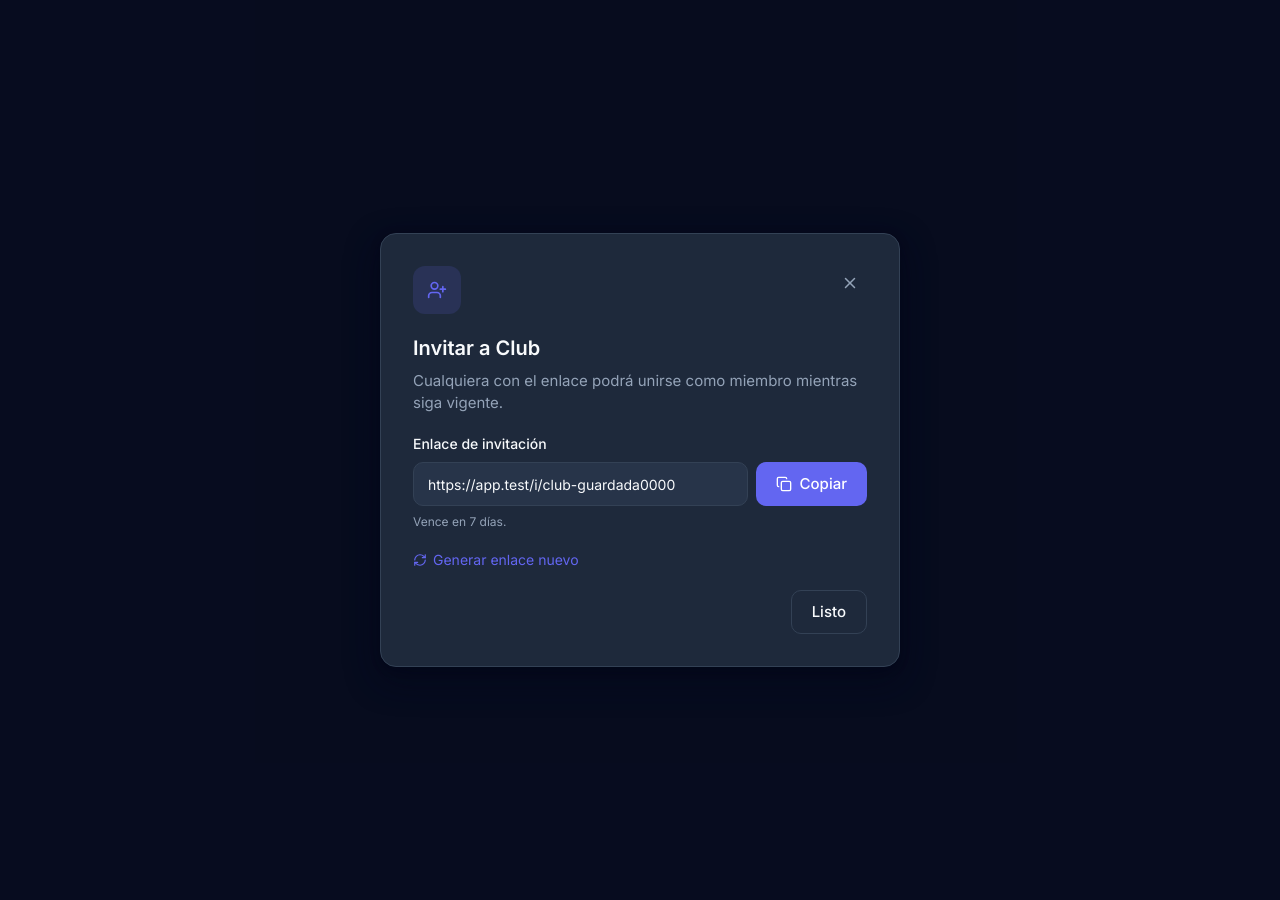
Test: InvitarModal › "Generar enlace nuevo" cambia el enlace
expect the field labelled "Enlace de invitación" holds "https://app.test/i/club-guardada0000": met, box x1=413 y1=462 x2=748 y2=506
Click the button "Generar enlace nuevo". click: x=496, y=560
box: x1=413 y1=550 x2=579 y2=570
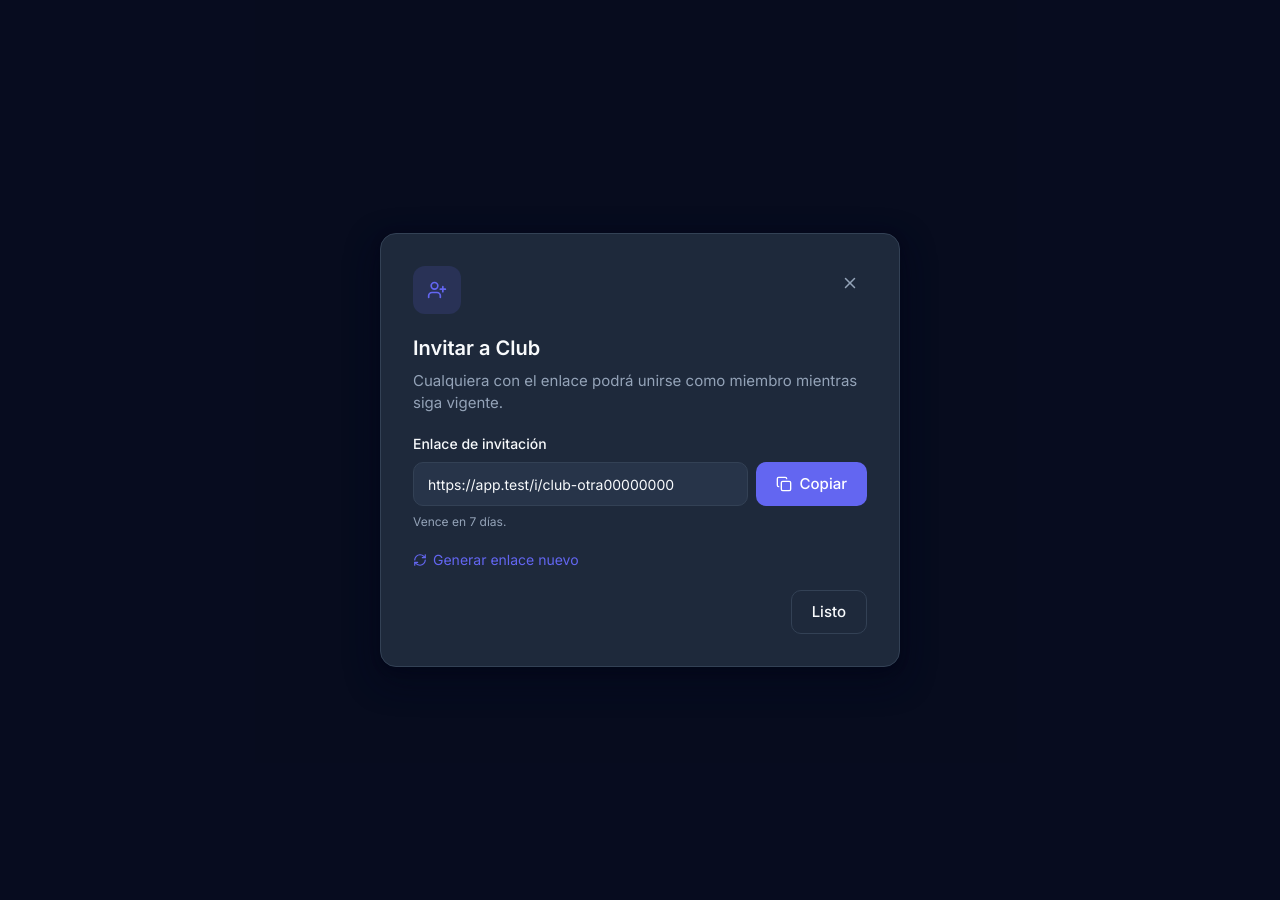
expect the field labelled "Enlace de invitación" holds "https://app.test/i/club-otra00000000": met, box x1=413 y1=462 x2=748 y2=506
